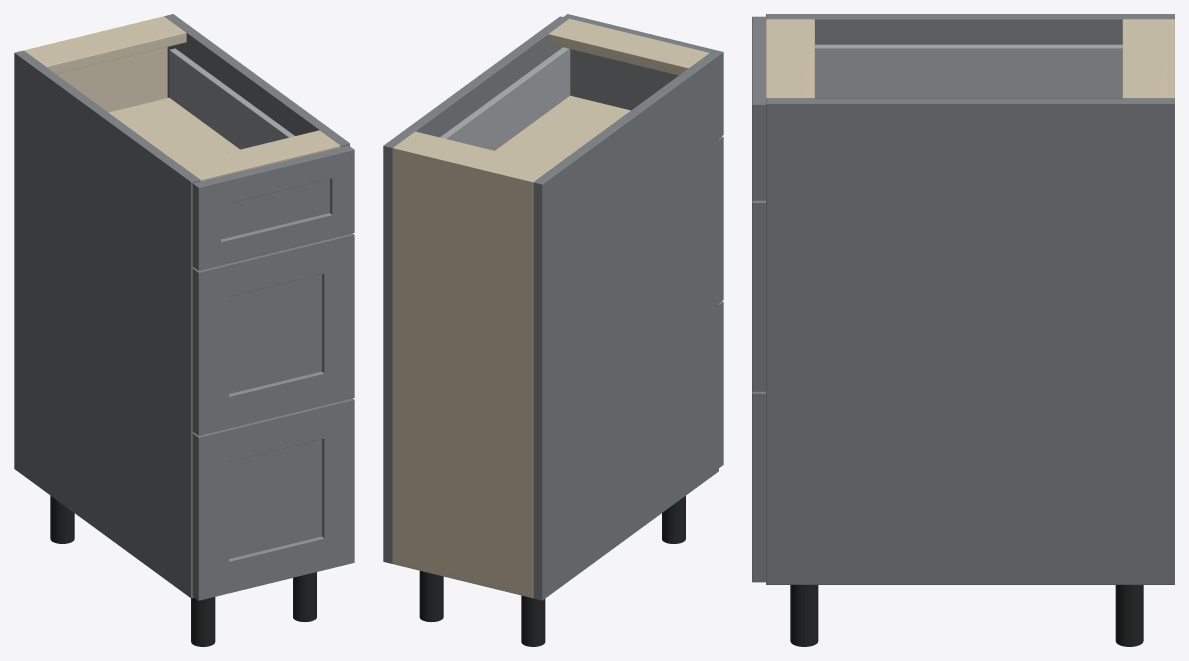
File: oppein-ply-gss-3db12.glb
The picture shows the model from 3 angles, left to right: view 1: azimuth 30°, elevation 25°; view 2: azimuth 150°, elevation 25°; view 3: azimuth 270°, elevation 25°; orthographic projection. The views are drawn at different scales.
Visible parts, largest first — view 1: Cabinet side, Drawer front, Drawer front.001, Drawer front.002, Drawer side.005, Cabinet back, Cabinet side.001, Drawer floor.002, Top support rail, Top support rail.001, Adjustable foot.001, Adjustable foot.003 (+1 smaller); view 2: Cabinet side, Cabinet back, Cabinet side.001, Drawer side.005, Drawer front.002, Drawer floor.002, Top support rail.001, Top support rail, Adjustable foot, Adjustable foot.002, Adjustable foot.001, Drawer front (+2 smaller); view 3: Cabinet side.001, Drawer side.004, Cabinet side, Top support rail.001, Top support rail, Drawer front, Drawer front.001, Drawer front.002, Adjustable foot.002, Adjustable foot.003, Cabinet back.
Boxes of the visible parts, <box> form: Cabinet side: <box>14,50,200,598</box>; Drawer front: <box>192,398,354,600</box>; Drawer front.001: <box>192,233,354,435</box>; Drawer front.002: <box>192,145,354,270</box>; Drawer side.005: <box>169,48,294,149</box>; Cabinet back: <box>24,16,167,112</box>; Cabinet side.001: <box>164,14,349,146</box>; Drawer floor.002: <box>108,97,239,164</box>; Top support rail: <box>25,18,186,73</box>; Top support rail.001: <box>179,130,340,181</box>; Adjustable foot.001: <box>191,597,215,646</box>; Adjustable foot.003: <box>293,572,316,621</box>; Cabinet side: <box>533,53,718,600</box>; Cabinet back: <box>393,145,535,598</box>; Cabinet side.001: <box>383,16,568,563</box>; Drawer side.005: <box>440,47,570,150</box>; Drawer front.002: <box>563,14,723,137</box>; Drawer floor.002: <box>495,95,630,165</box>; Top support rail.001: <box>548,18,709,75</box>; Top support rail: <box>396,131,554,179</box>; Adjustable foot: <box>521,595,545,646</box>; Adjustable foot.002: <box>419,571,443,622</box>; Adjustable foot.001: <box>662,496,685,543</box>; Drawer front: <box>719,301,723,467</box>; Cabinet side.001: <box>766,98,1174,584</box>; Drawer side.004: <box>815,44,1122,98</box>; Cabinet side: <box>766,14,1174,44</box>; Top support rail.001: <box>766,19,814,98</box>; Top support rail: <box>1122,19,1166,98</box>; Drawer front: <box>752,391,765,582</box>; Drawer front.001: <box>752,200,765,391</box>; Drawer front.002: <box>752,16,765,200</box>; Adjustable foot.002: <box>1115,585,1143,646</box>; Adjustable foot.003: <box>790,585,818,646</box>; Cabinet back: <box>1167,19,1174,98</box>.
Size of the model in its own units: 0.3048 by 0.8763 by 0.6064.
